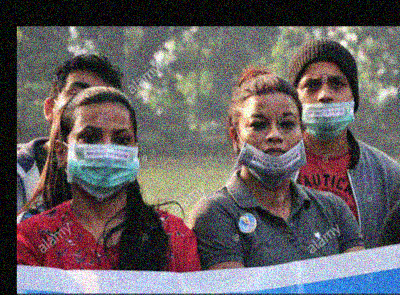mask_weared_incorrect: (239, 107, 301, 185), (295, 70, 356, 140)
with_mask: (66, 122, 136, 197)
